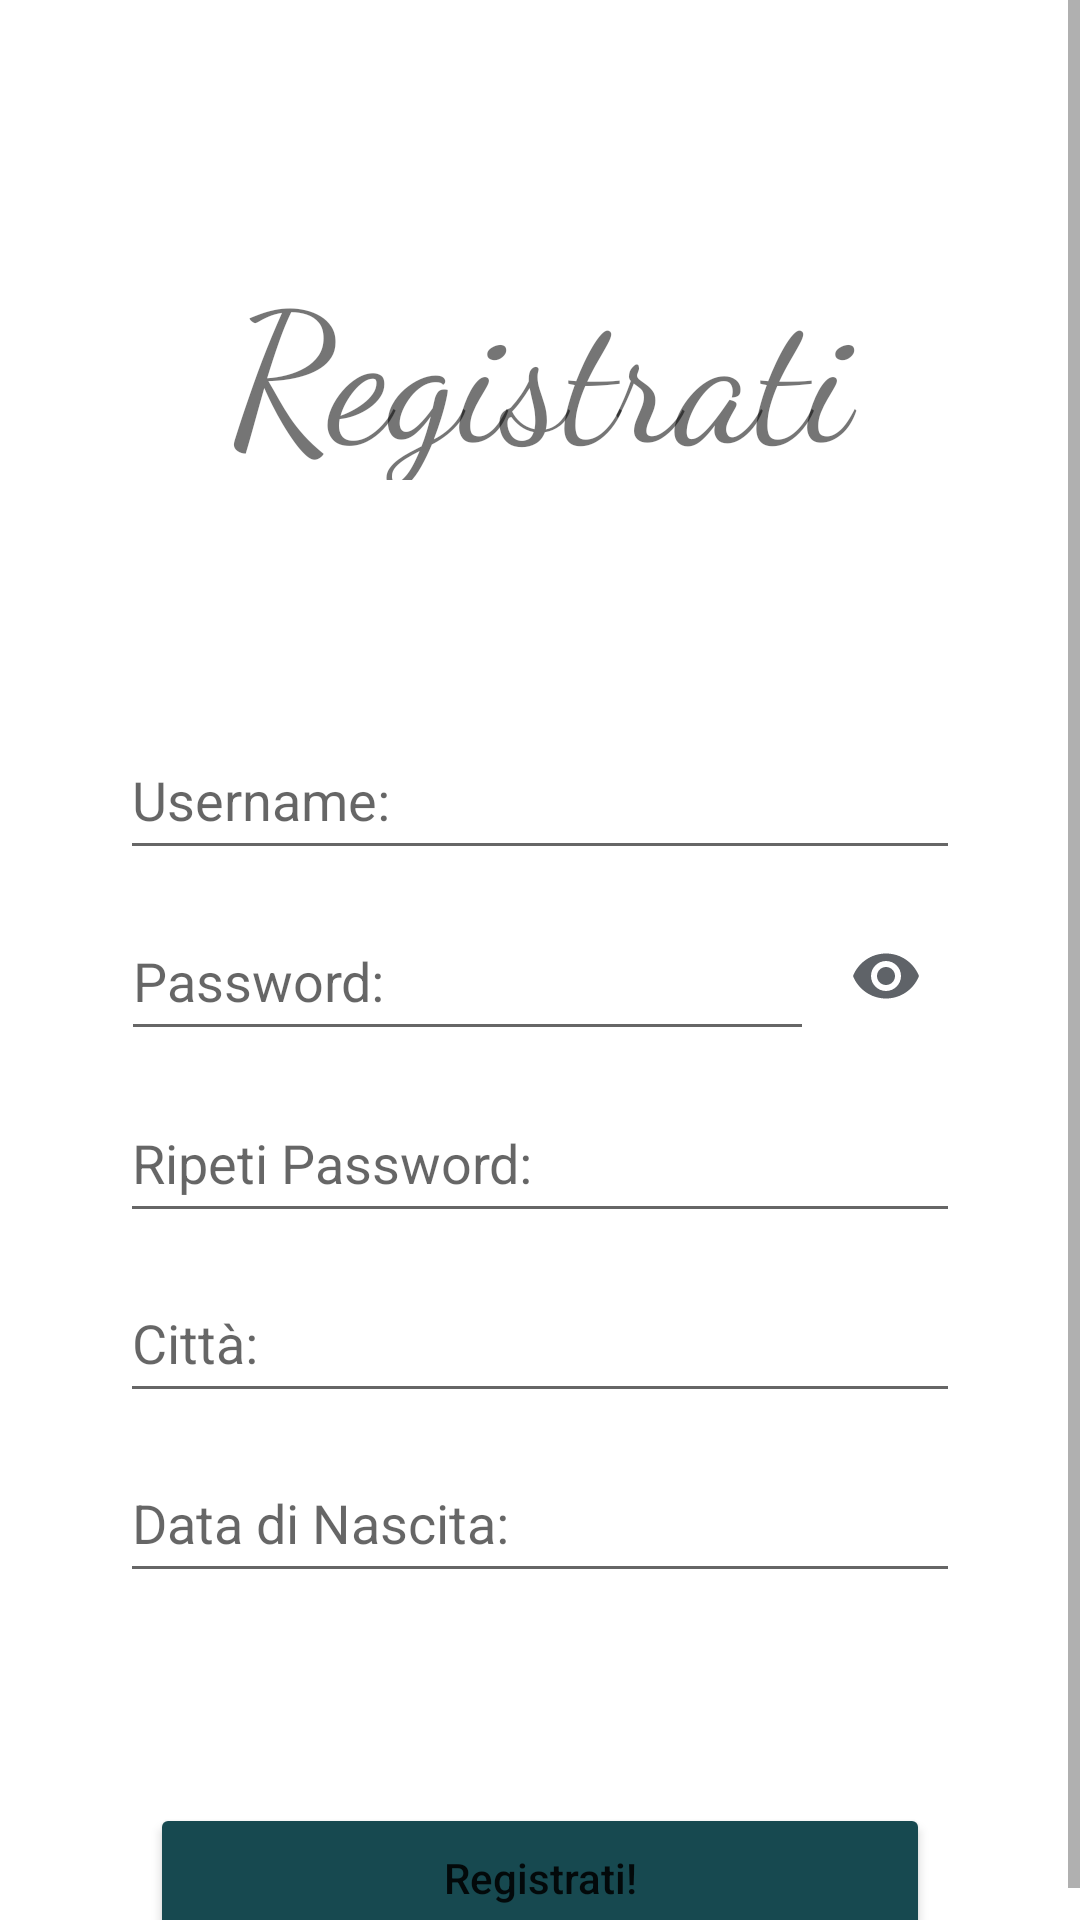

Named icons in this screenshot (1080w x 1920h) and their bounding boxes, (x1, y1, x2, y2):
visibility: (853, 953, 919, 999)
